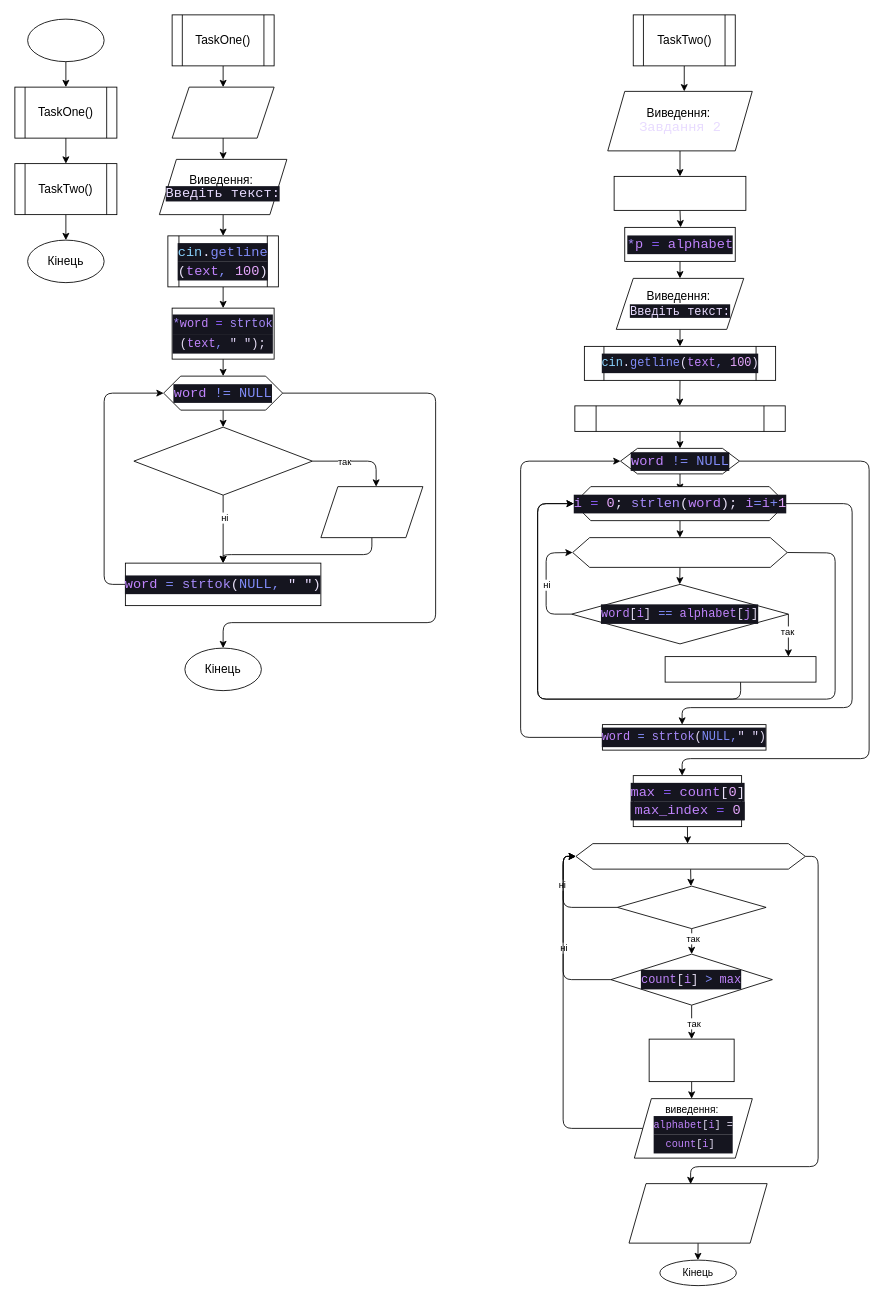
This 891x1301 diagram has some shape labels left out. Here are the shapes that lost their labels. From the top down, the centre of each, then its label:
pixel 65 40: Початок
pixel 222 112: Виведення: Завдання 1
pixel 679 193: count [ 52 ] = { 0 }
pixel 679 418: * word = strtok ( text , " " )
pixel 222 460: strlen ( word ) >= 5
pixel 371 512: Виведення: word
pixel 679 552: j = 0 ; strlen ( alphabet ); j = j + 1
pixel 740 669: count [ j ] = count [ j ] + 1
pixel 690 856: i = 0 ; strlen ( alphabet ); i = i + 1
pixel 691 907: count [ i ] > 0
pixel 691 1060: max = count [ i ] max_index = i
pixel 697 1213: Виведення: Найбільш повторювана літера: alphabet [ max_index ]
